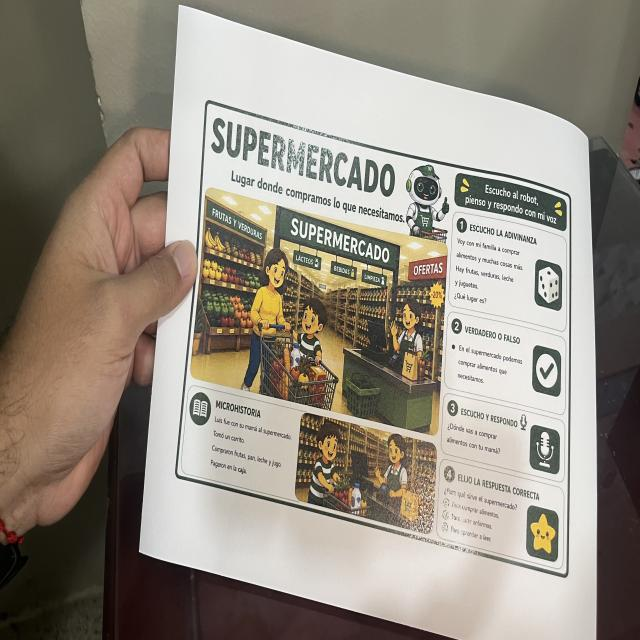supermercado: (172, 95, 575, 584)
